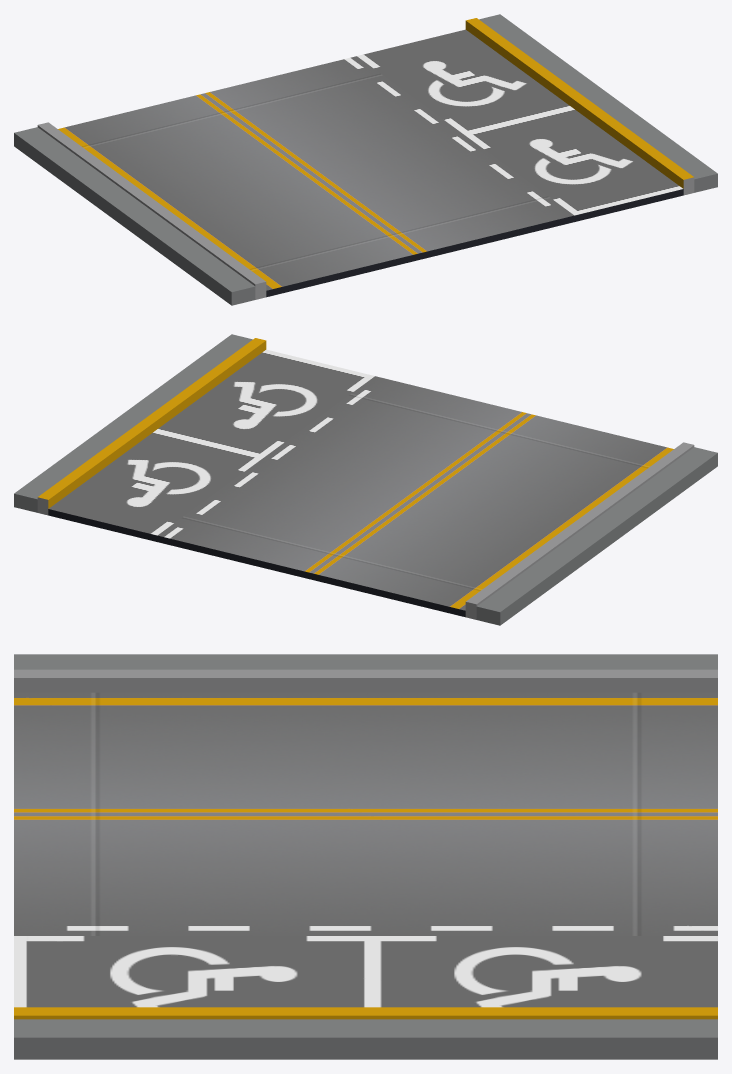
File: Road5_Shoulder3.fbx
3 renders of one model, top to bottom at view 1: azimuth 30°, elevation 25°; view 2: azimuth 150°, elevation 25°; view 3: azimuth 270°, elevation 25°, orthographic. The views are drawn at different scales.
Parts seen in each view (by area): view 1: Road5_Shoulder3; view 2: Road5_Shoulder3; view 3: Road5_Shoulder3.
Part boxes in pixels (x1,y1,x2,y2): Road5_Shoulder3: [14, 14, 717, 305]; Road5_Shoulder3: [14, 334, 717, 625]; Road5_Shoulder3: [14, 654, 717, 1059].
Size of the model in its own units: 15.47 by 0.4753 by 12.
